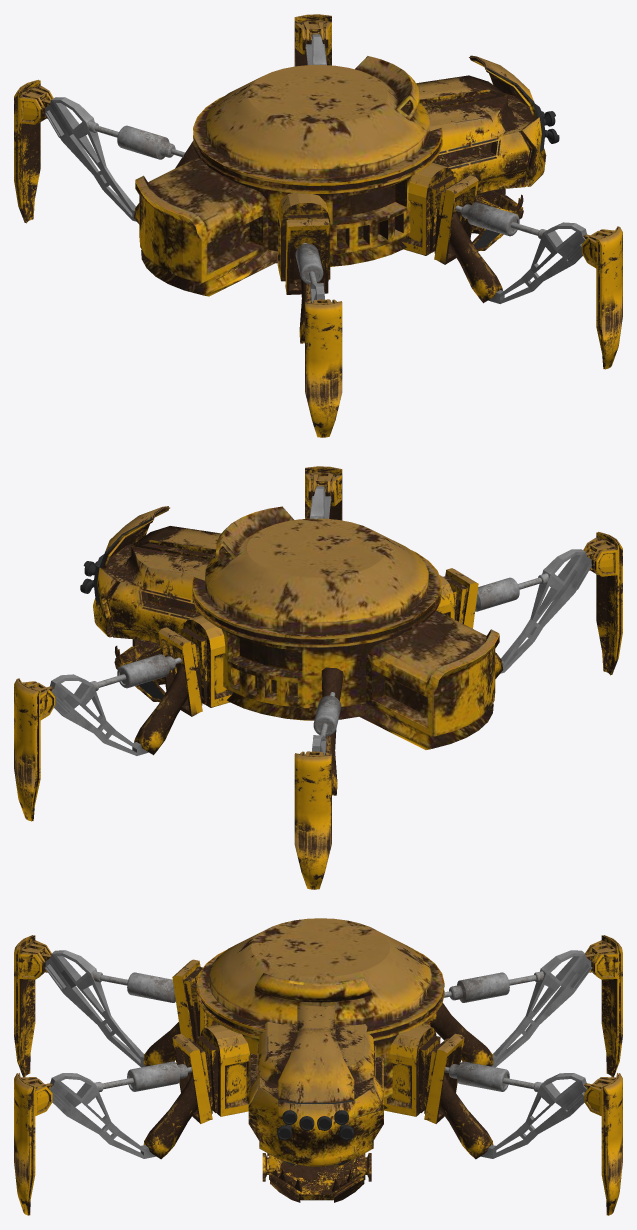
Rendered from boss_hive_titan.glb.
3 renders of one model, top to bottom at view 1: azimuth 30°, elevation 25°; view 2: azimuth 150°, elevation 25°; view 3: azimuth 270°, elevation 25°, orthographic.
Parts seen in each view (by area): view 1: Cylinder.002, Cube.004, Cube.008, Cube.010, Cube.013, Cube.005, Cube.014, Cube.015, Cube.006, Cube.007, Cylinder.012, Cylinder.009 (+3 smaller); view 2: Cylinder.002, Cube.004, Cube.014, Cube.009, Cube.001, Cube.010, Cube.011, Cube.002, Cube.003, Cube.013, Cylinder.010, Cube.005 (+4 smaller); view 3: Cylinder.002, Cube.004, Cube.008, Cube.009, Cube.017, Cube.011, Cube.015, Cube.005, Cube.001, Cube.010, Cube.014, Cube.006 (+12 smaller).
Boxes of the visible parts, x1,y1,x2,y2 form: Cylinder.002: (135, 56, 442, 296); Cube.004: (416, 55, 546, 193); Cube.008: (399, 162, 478, 264); Cube.010: (305, 299, 342, 437); Cube.013: (277, 193, 330, 294); Cube.005: (581, 226, 622, 369); Cube.014: (14, 79, 53, 223); Cube.015: (44, 97, 136, 221); Cube.006: (488, 222, 586, 303); Cube.007: (449, 213, 502, 303); Cylinder.012: (88, 121, 185, 159); Cylinder.009: (455, 202, 546, 238); Cylinder.002: (192, 506, 499, 749); Cube.004: (93, 506, 220, 643); Cube.014: (294, 751, 331, 889); Cube.009: (158, 615, 233, 716); Cube.001: (14, 678, 55, 821); Cube.010: (583, 531, 622, 675); Cube.011: (500, 549, 592, 673); Cube.002: (50, 674, 148, 755); Cube.003: (134, 665, 187, 755); Cube.013: (436, 568, 478, 628); Cylinder.010: (90, 654, 181, 690); Cube.005: (305, 466, 342, 520); Cylinder.002: (196, 918, 444, 1109); Cube.004: (248, 1004, 383, 1167); Cube.008: (172, 1024, 249, 1123); Cube.009: (384, 1025, 464, 1123); Cube.017: (262, 1153, 371, 1202); Cube.011: (44, 950, 145, 1067); Cube.015: (491, 950, 592, 1067); Cube.005: (14, 1073, 52, 1215); Cube.001: (584, 1073, 622, 1215); Cube.010: (14, 935, 51, 1077); Cube.014: (585, 935, 622, 1077); Cube.006: (49, 1073, 155, 1158).
Size of the model in its own units: 24.19 by 12.11 by 33.06.
Materials: 12 (10 with a texture image).
